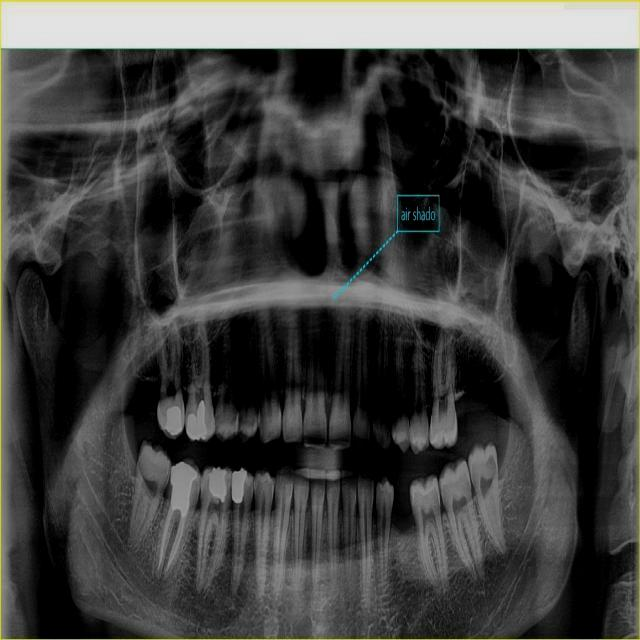Filling: (170, 460, 198, 517), (186, 402, 207, 442), (208, 466, 227, 502), (231, 466, 247, 503), (164, 405, 181, 435)
Missing teeth: (455, 384, 490, 437), (391, 485, 417, 532)
Root Canal Treatment: (165, 514, 186, 573), (157, 503, 174, 570)
